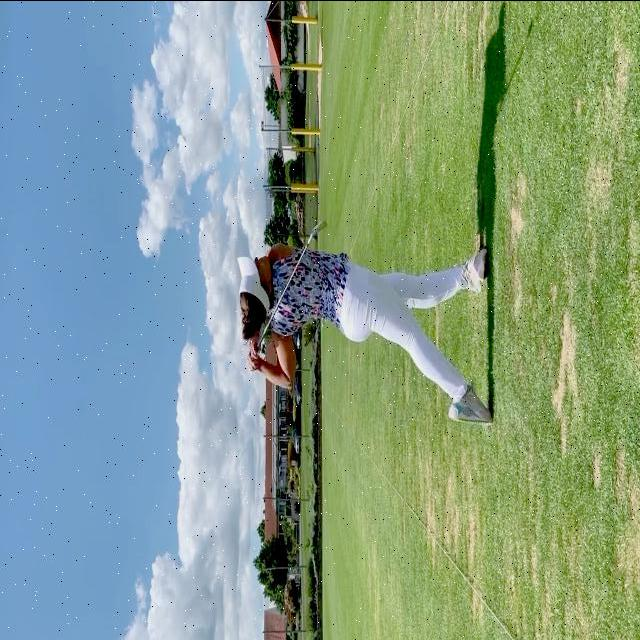golf club-handle: (255, 218, 327, 352)
golf club-head: (312, 220, 327, 237)
